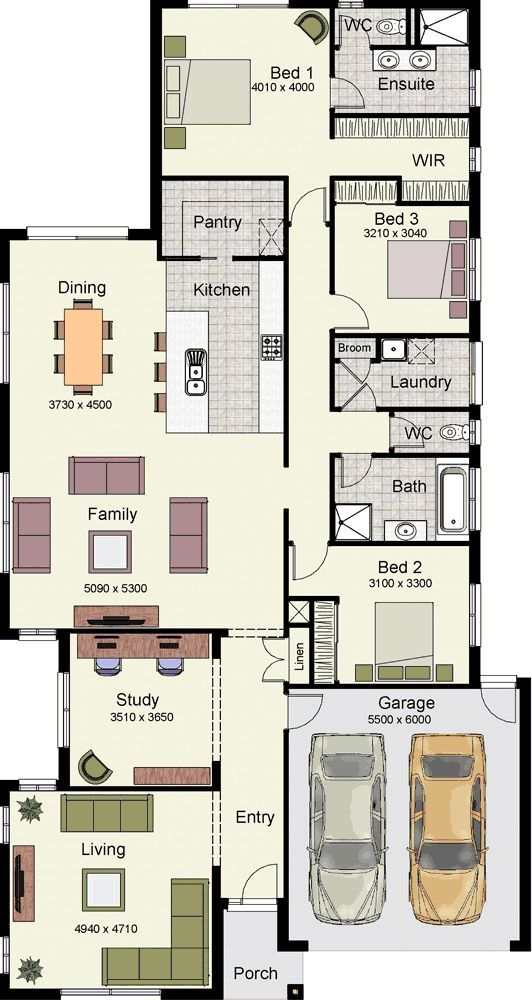door: (246, 635, 283, 692), (239, 856, 279, 897), (335, 74, 370, 110), (483, 693, 518, 729), (289, 550, 324, 586), (337, 457, 372, 493), (397, 415, 432, 451), (338, 295, 373, 331), (293, 182, 328, 218), (337, 12, 372, 48), (292, 693, 327, 729), (341, 384, 381, 406), (340, 362, 376, 383)
room: (1, 226, 290, 641), (1, 784, 226, 1000), (148, 2, 335, 182), (282, 540, 483, 692), (53, 623, 227, 793), (327, 172, 486, 342), (327, 1, 484, 120), (326, 447, 485, 549), (325, 111, 484, 207), (149, 173, 295, 265), (326, 333, 489, 415), (386, 404, 487, 459)
wall: (519, 678, 532, 950), (150, 1, 162, 243), (282, 256, 290, 468), (283, 730, 290, 950), (212, 866, 222, 997), (56, 784, 213, 792), (284, 684, 480, 689), (368, 1, 480, 9), (469, 3, 481, 66), (331, 540, 478, 545), (329, 175, 335, 294), (1, 386, 9, 470), (330, 334, 481, 338), (329, 455, 335, 545), (330, 335, 336, 412), (279, 941, 309, 952), (212, 763, 219, 790)
window: (22, 223, 132, 248), (52, 666, 75, 755), (54, 982, 165, 1000), (462, 337, 487, 409), (464, 578, 487, 651), (464, 232, 486, 306), (1, 278, 15, 390), (1, 466, 15, 578), (466, 462, 487, 536), (185, 1, 293, 15), (13, 624, 59, 645), (464, 65, 484, 111), (1, 930, 17, 979), (463, 141, 483, 178), (1, 800, 15, 850), (464, 416, 484, 450), (335, 1, 368, 9)
